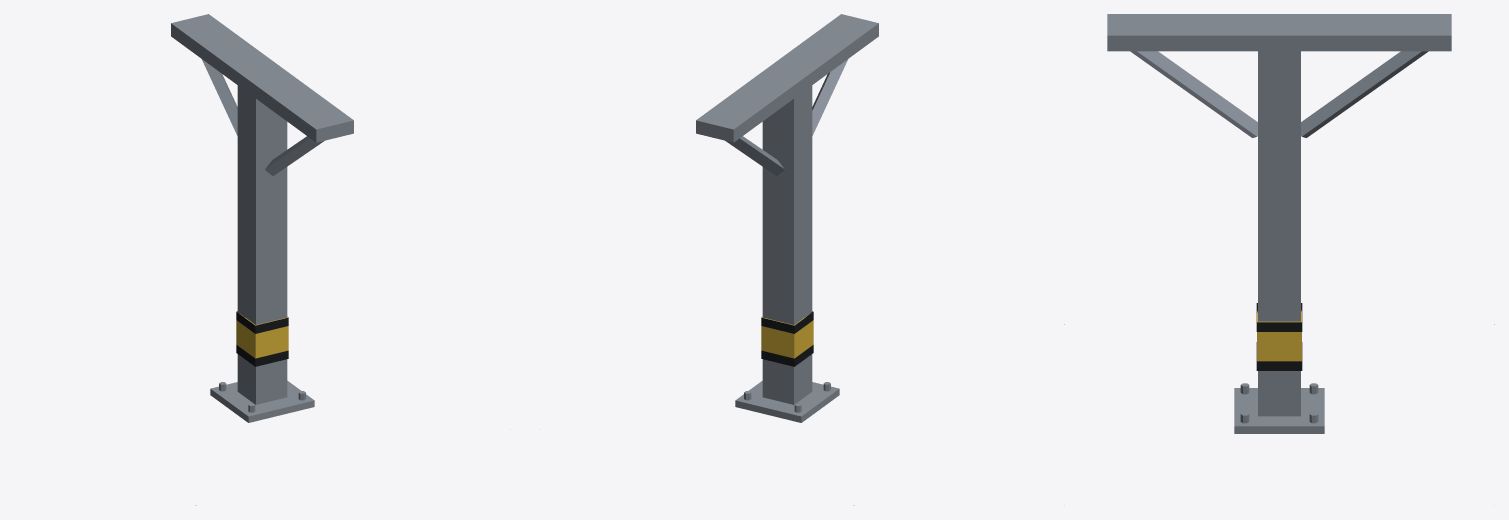
Rendered from pilier_convoyeur_t2.glb.
The picture shows the model from 3 angles, left to right: view 1: azimuth 30°, elevation 25°; view 2: azimuth 150°, elevation 25°; view 3: azimuth 270°, elevation 25°; orthographic projection. The views are drawn at different scales.
Parts seen in each view (by area): view 1: pieces_acier.048, pieces_jaune.018, pieces_noir.024; view 2: pieces_acier.048, pieces_jaune.018, pieces_noir.024; view 3: pieces_acier.048, pieces_jaune.018, pieces_noir.024.
Part boxes in pixels (bbox=[...]): pieces_acier.048: bbox=[171, 14, 353, 422]; pieces_jaune.018: bbox=[236, 312, 288, 358]; pieces_noir.024: bbox=[236, 311, 288, 366]; pieces_acier.048: bbox=[696, 14, 878, 422]; pieces_jaune.018: bbox=[761, 314, 813, 358]; pieces_noir.024: bbox=[761, 311, 813, 366]; pieces_acier.048: bbox=[1107, 14, 1451, 433]; pieces_jaune.018: bbox=[1257, 310, 1301, 361]; pieces_noir.024: bbox=[1256, 303, 1302, 370].
Size of the model in its own units: 1 by 1 by 1.
